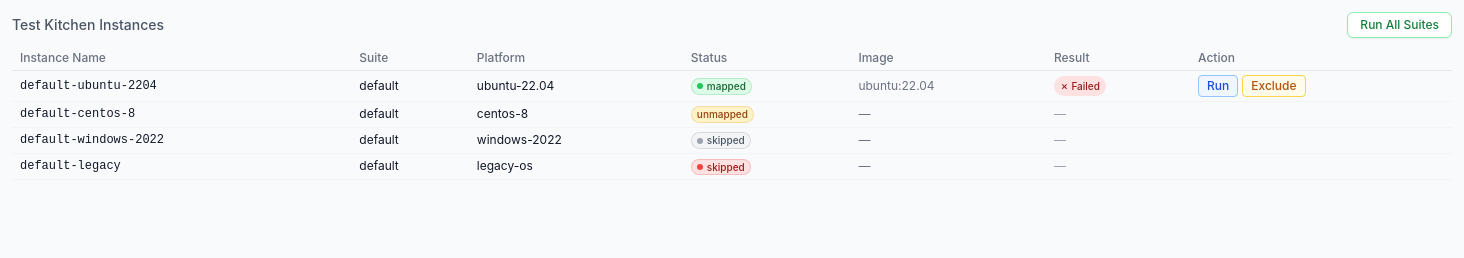
it: GitKitchenSection › collapses output when clicking the badge again
What coordinates should you click on to do the following:
click the button "✗ Failed"
I would click on:
 (1080, 86)
Its box is [1054, 78, 1106, 93].
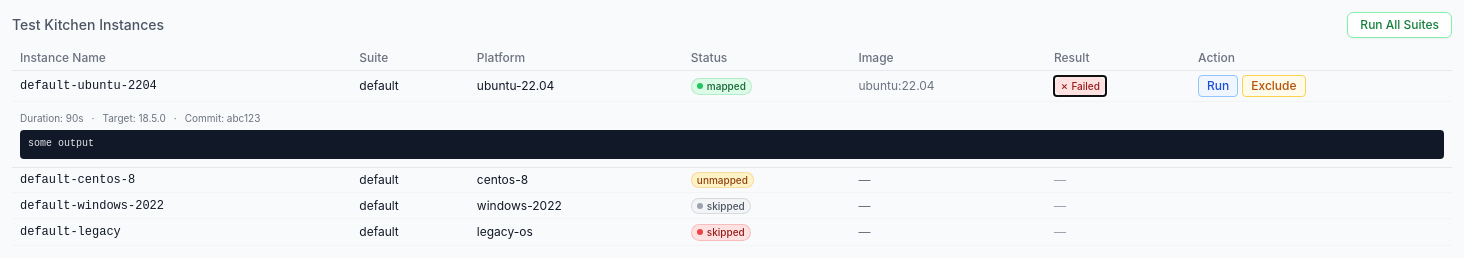
expect the text "some output" is shown: met, box [20, 130, 1444, 158]
What coordinates should you click on to do the following:
click the button "✗ Failed"
I would click on:
 (1080, 86)
Its box is [1054, 78, 1106, 93].
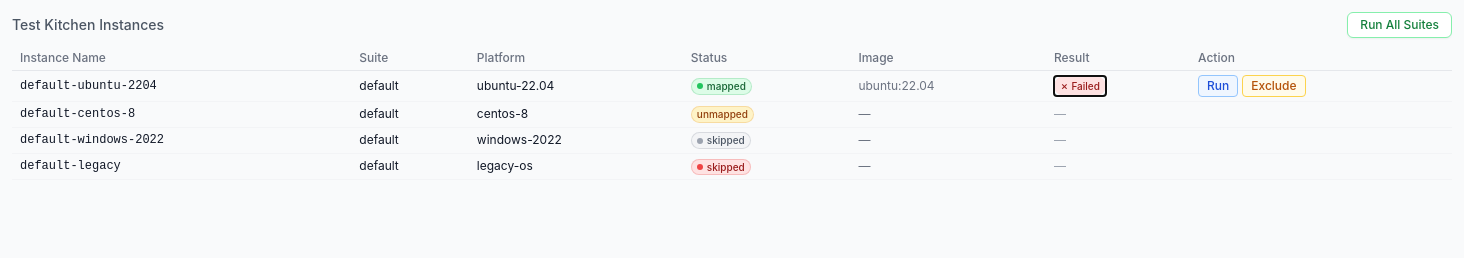
expect the text "some output" is gone: met
